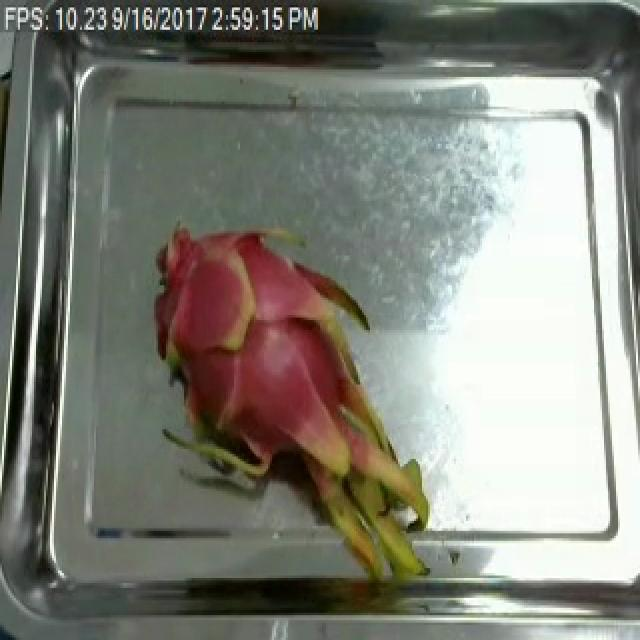fruit: (136, 211, 430, 558)
